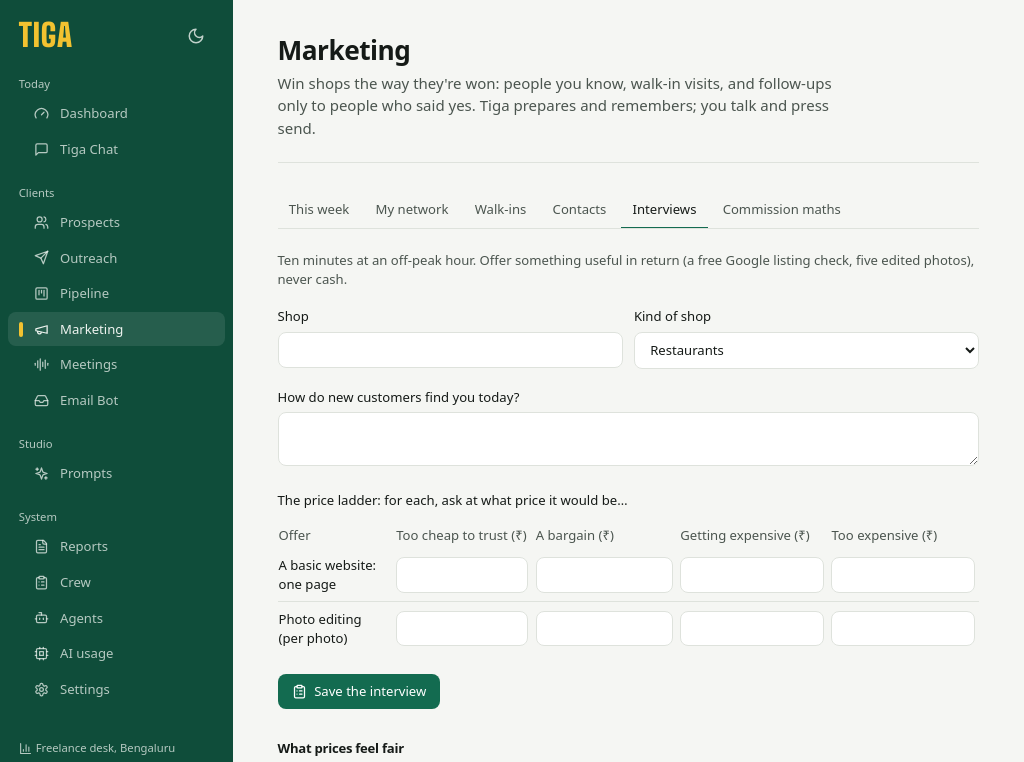
Test case: Marketing › saves an owner interview with a rising price ladder and shows the fair range
Type "Sri Ganesh Bakery" into the field labelled "Shop".
click(450, 350); type("Sri Ganesh Bakery")  # box [278,332,623,368]
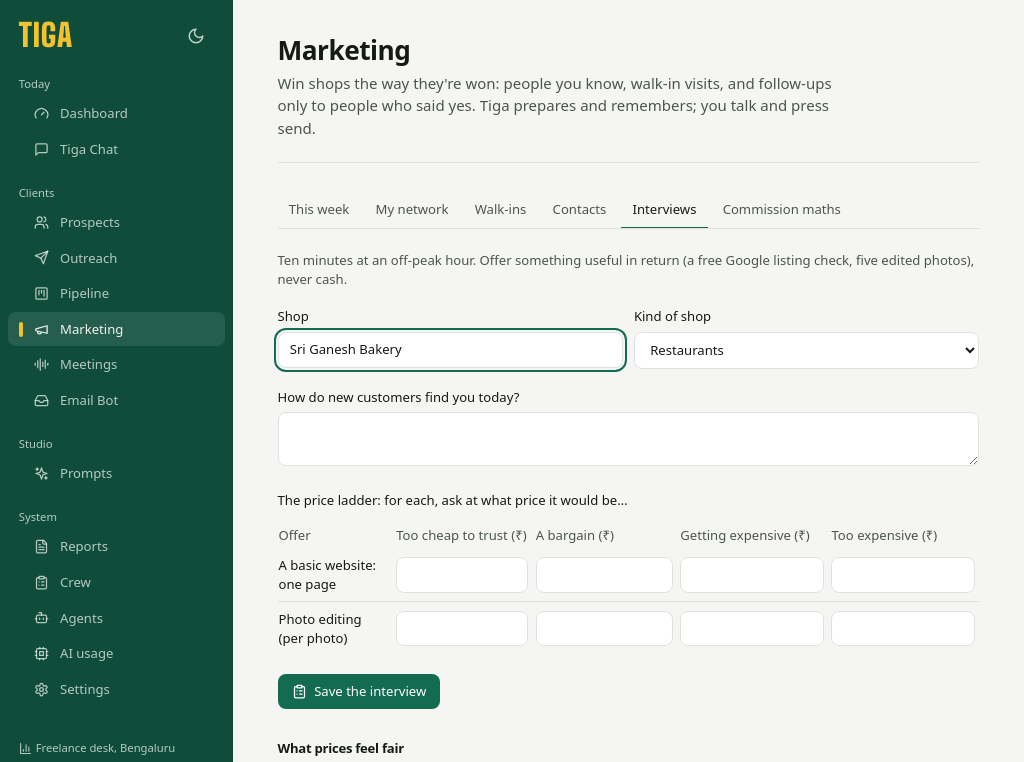
Select "Bakeries" in the dropdown labelled "Kind of shop" at (806, 350), box [634,332,979,369]
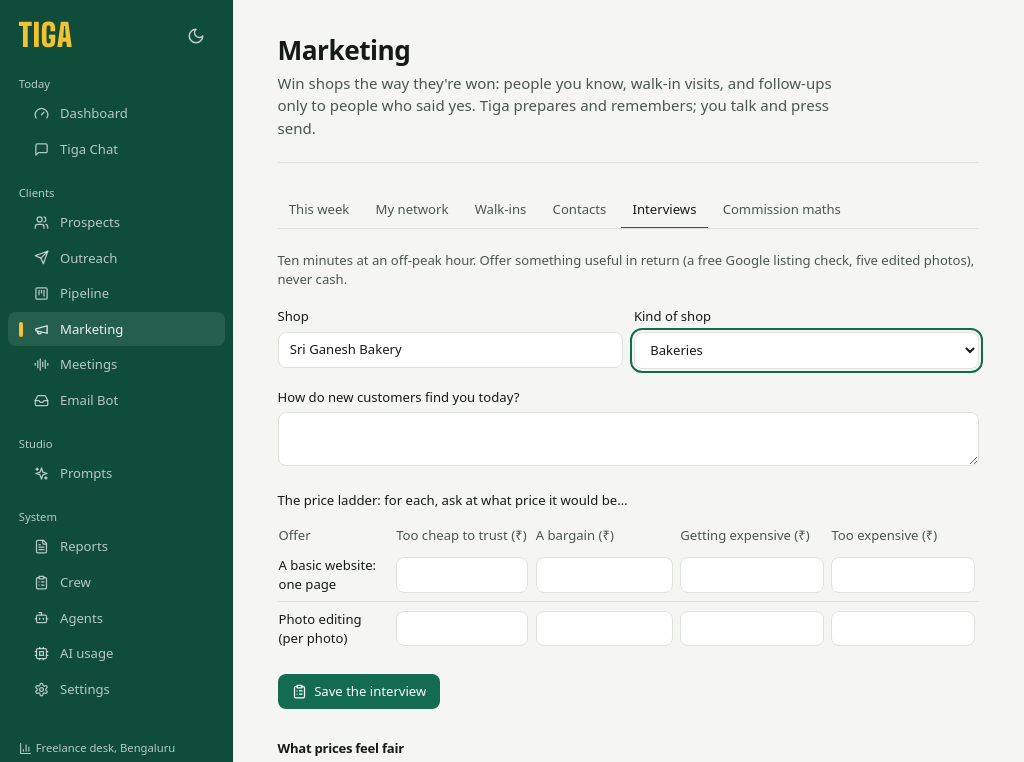
Type "Word of mouth" into the text box labelled "How do new customers find you today?".
click(628, 439); type("Word of mouth")  # box [278,412,979,466]
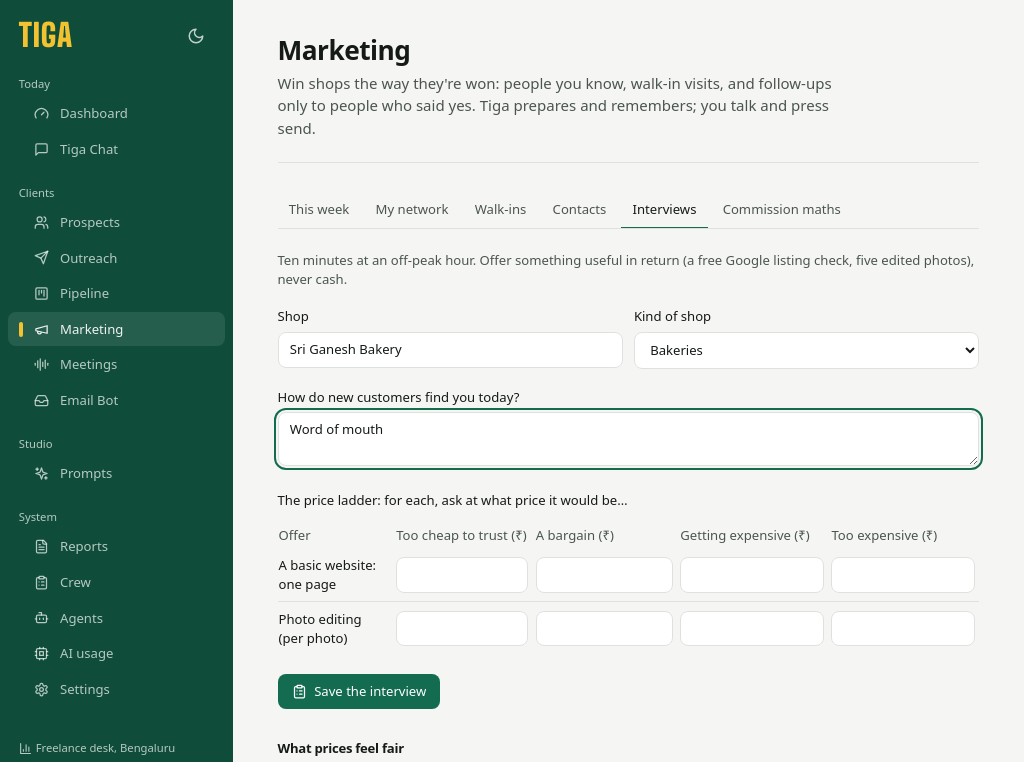
Type "5000" into the field named "A basic website: A bargain".
click(604, 575); type("5000")  # box [536,557,673,593]
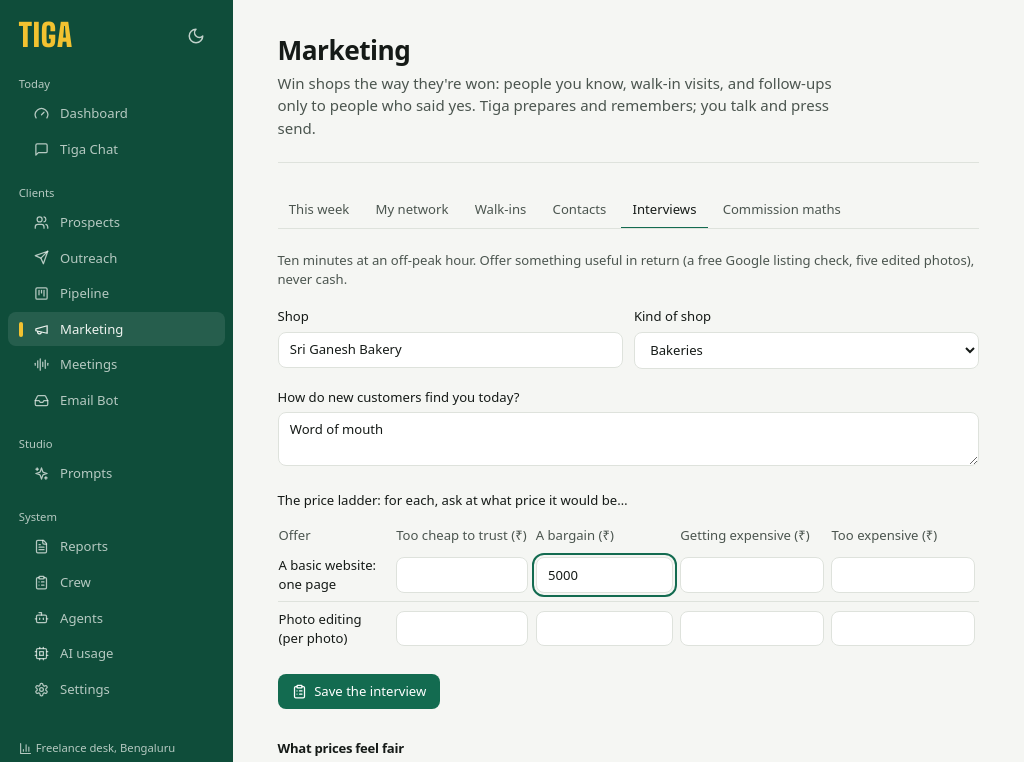
Type "9000" into the field named "A basic website: Getting expensive".
click(752, 575); type("9000")  # box [680,557,824,593]
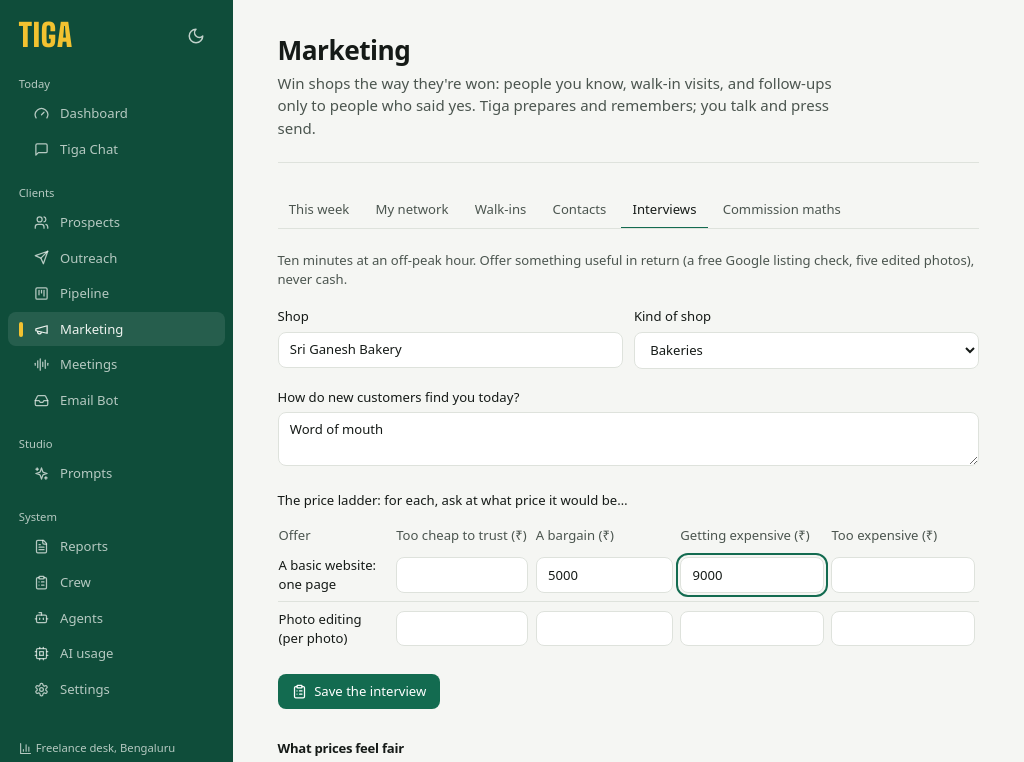
Click the button "Save the interview".
click(359, 692)  # box [278,674,440,709]
(page scrolled)
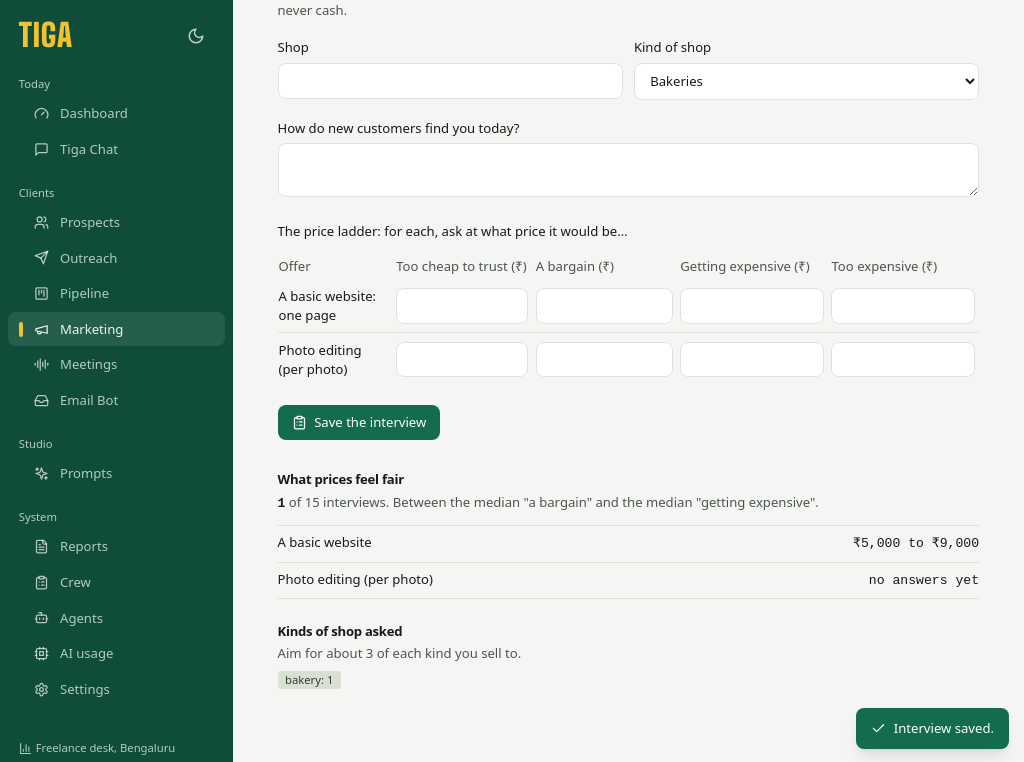
Check: the text "₹5,000 to ₹9,000" is shown, box [853,535,979,554]
